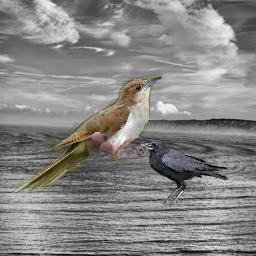Crow: (140, 141, 229, 207)
Cuckoo: (12, 74, 162, 193)
